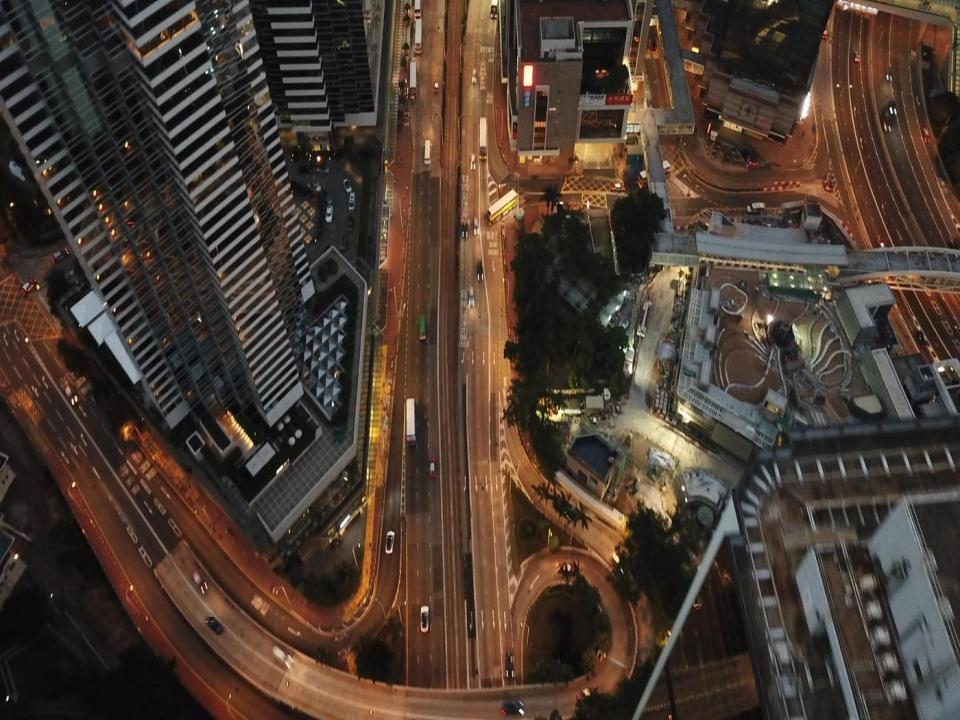bus: (484, 188, 518, 227), (406, 398, 416, 445), (478, 117, 486, 160), (409, 61, 417, 99), (415, 19, 422, 53), (423, 139, 430, 164), (490, 1, 498, 19), (413, 0, 421, 17)
car: (204, 614, 225, 634), (191, 570, 208, 593), (576, 685, 595, 701), (63, 384, 78, 404), (505, 649, 515, 678), (502, 702, 525, 714), (556, 562, 577, 575), (20, 279, 36, 295), (50, 249, 68, 262), (420, 605, 428, 632), (916, 326, 926, 346), (321, 190, 332, 205), (877, 238, 886, 256), (386, 531, 393, 554), (428, 457, 436, 477), (476, 260, 484, 280), (307, 182, 322, 192), (348, 193, 356, 210), (611, 183, 626, 192), (317, 164, 330, 174), (299, 164, 312, 174), (339, 235, 347, 251), (325, 206, 333, 222), (346, 215, 353, 232), (343, 179, 352, 192), (473, 217, 479, 235), (462, 222, 467, 239), (471, 68, 477, 82), (434, 82, 438, 92)
truck: (419, 314, 426, 341)
van: (271, 645, 293, 668), (468, 286, 474, 307)
